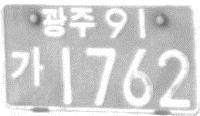1: (58, 43, 73, 107), (136, 5, 148, 39)
2: (157, 47, 195, 111)
6: (122, 46, 153, 108)
7: (83, 45, 116, 107)
9: (102, 5, 130, 39)
가: (9, 42, 46, 86)
광주_O: (41, 6, 96, 40)
